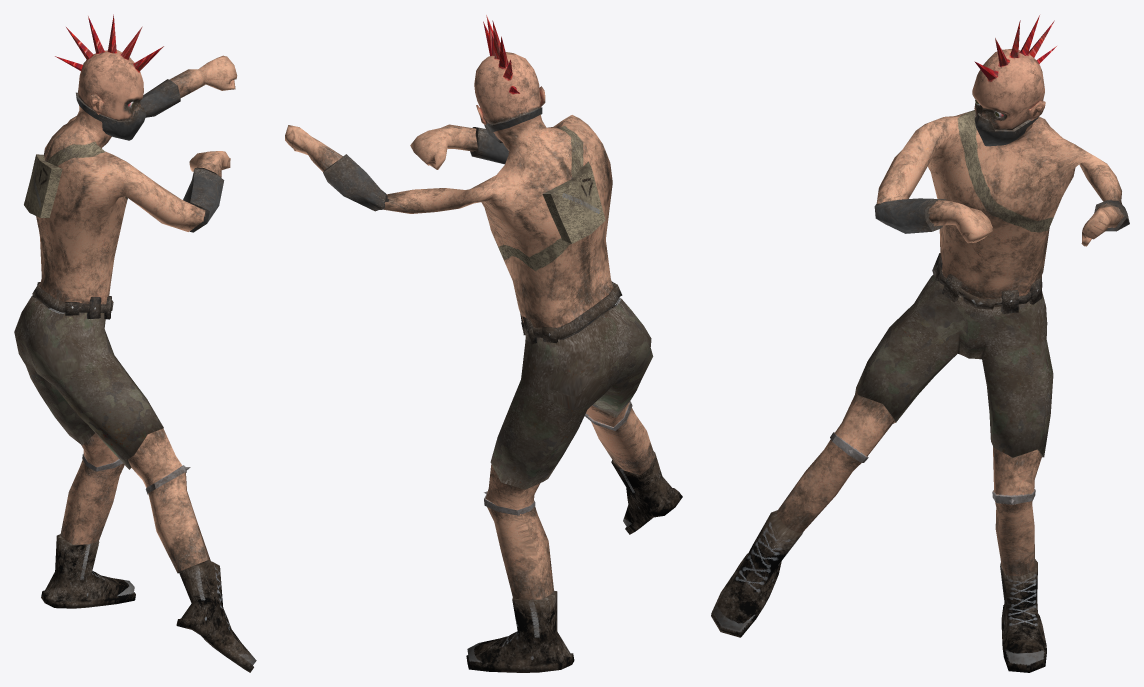
Rendered from Anim_arma_c_npc2.0025.obj.
3 views of the same model, side by side, from view 1: azimuth 30°, elevation 25°; view 2: azimuth 150°, elevation 25°; view 3: azimuth 270°, elevation 25° (orthographic). The views are drawn at different scales.
Parts seen in each view (by area): view 1: polySurface1; view 2: polySurface1; view 3: polySurface1.
Part boxes in pixels (x1,y1,x2,y2): polySurface1: [14, 14, 256, 672]; polySurface1: [285, 15, 682, 672]; polySurface1: [711, 15, 1129, 672].
Bounding box in the file's own units: 4.62 × 9.95 × 5.87.
